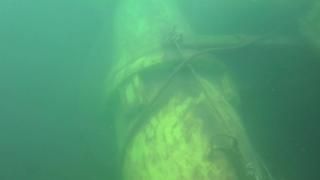pipe: (102, 1, 263, 180)
